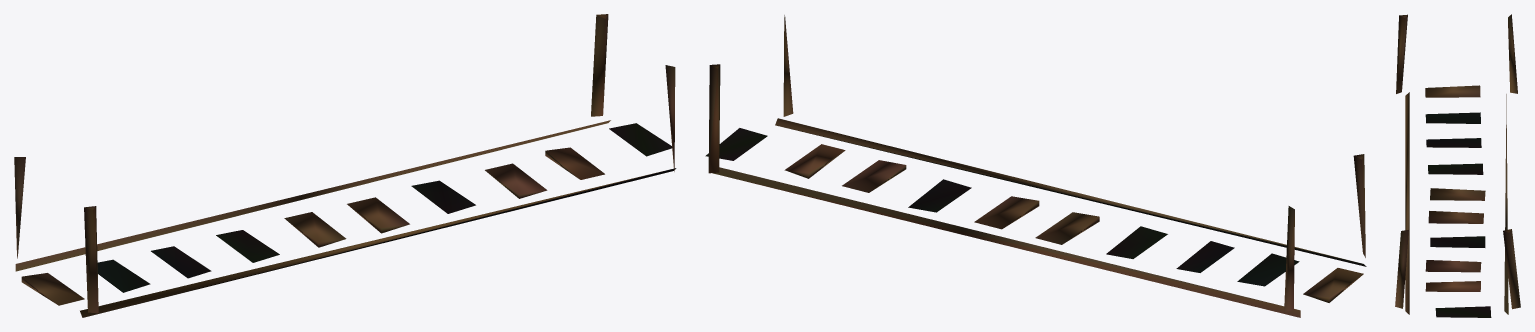
File: bridge_bk_foret_broceliande_0003.glb
3 views of the same model, side by side, from view 1: azimuth 30°, elevation 25°; view 2: azimuth 150°, elevation 25°; view 3: azimuth 270°, elevation 25° (orthographic). The views are drawn at different scales.
Visible parts, largest first — view 1: bridge_bk_003; view 2: bridge_bk_003; view 3: bridge_bk_003.
Part boxes in pixels (x1,y1,x2,y2): bridge_bk_003: (14, 14, 676, 317); bridge_bk_003: (705, 15, 1366, 317); bridge_bk_003: (1395, 14, 1520, 317).
Size of the model in its own units: 6.92 by 1.2 by 1.6.
